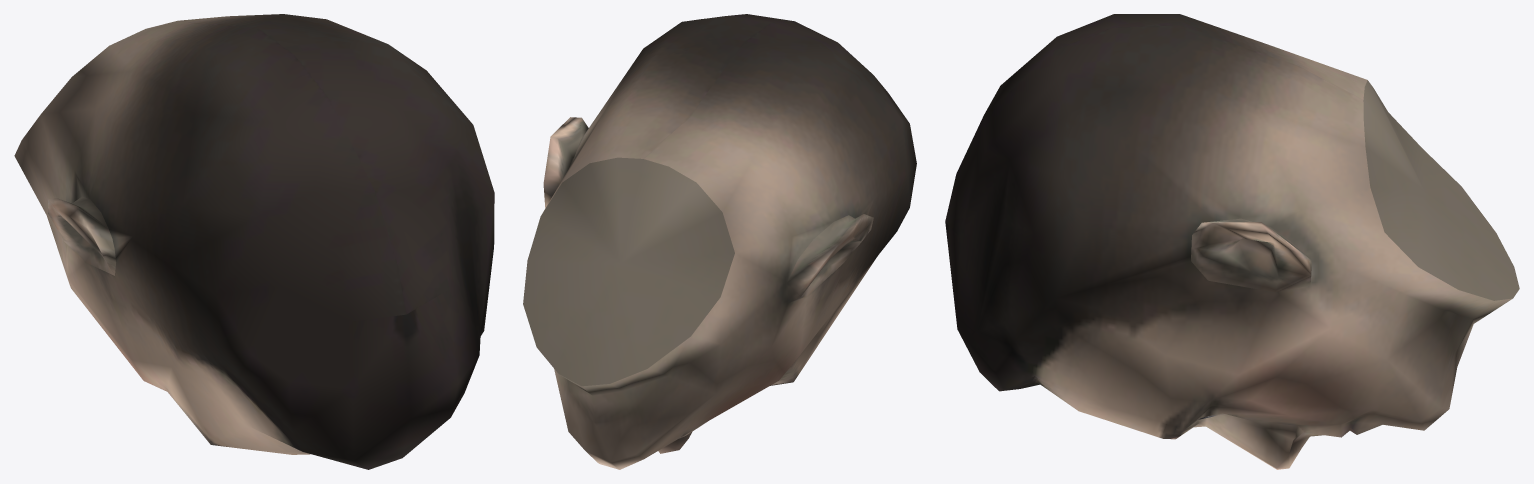
File: dest_nt_nuked_male_01_head_LOD2.obj
3 views of the same model, side by side, from view 1: azimuth 30°, elevation 25°; view 2: azimuth 150°, elevation 25°; view 3: azimuth 270°, elevation 25° (orthographic). The views are drawn at different scales.
Visible parts, largest first — view 1: mtl_nt_2020_manne_male01_head1; view 2: mtl_nt_2020_manne_male01_head1; view 3: mtl_nt_2020_manne_male01_head1.
Part boxes in pixels (x1,y1,x2,y2): mtl_nt_2020_manne_male01_head1: [14, 14, 494, 469]; mtl_nt_2020_manne_male01_head1: [523, 14, 916, 469]; mtl_nt_2020_manne_male01_head1: [945, 14, 1519, 469].
Bounding box in the file's own units: 19.2 × 23.73 × 28.97.
